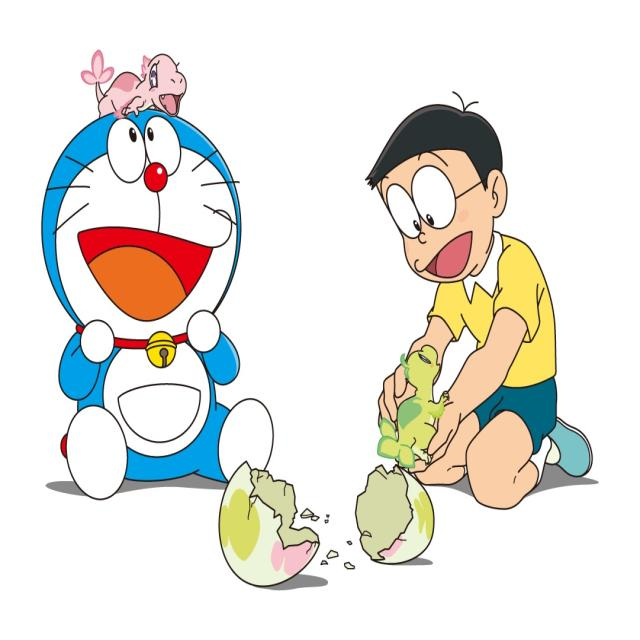doraemon: (41, 99, 280, 431)
nobita: (359, 89, 542, 338)
